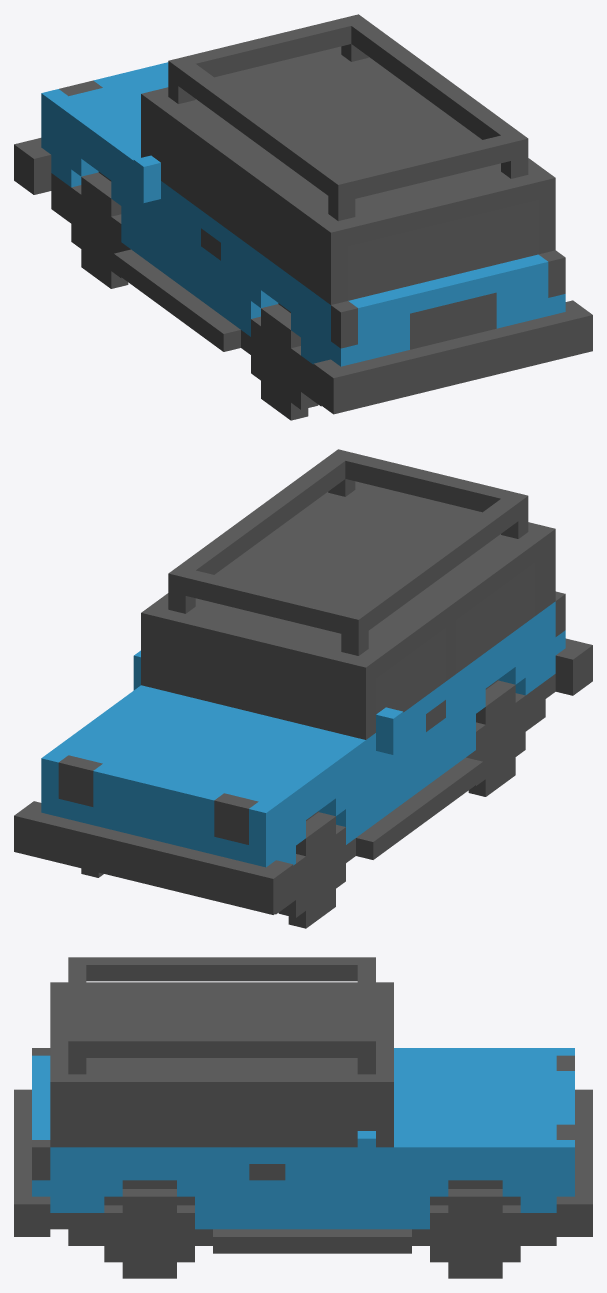
The model's file is veh_suv2.obj.
The picture shows the model from 3 angles, top to bottom: view 1: azimuth 30°, elevation 25°; view 2: azimuth 150°, elevation 25°; view 3: azimuth 270°, elevation 25°; orthographic projection. The views are drawn at different scales.
Size of the model in its own units: 15 by 14 by 32.
